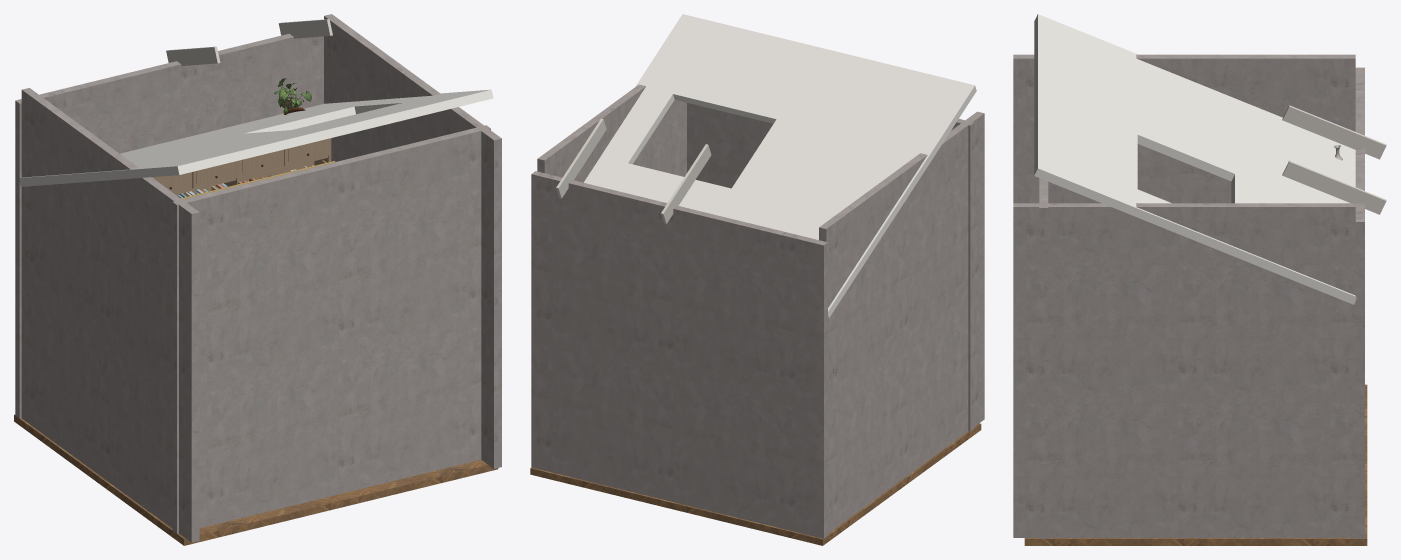
Rendered from attic.glb.
3 views of the same model, side by side, from view 1: azimuth 30°, elevation 25°; view 2: azimuth 150°, elevation 25°; view 3: azimuth 270°, elevation 25° (orthographic). The views are drawn at different scales.
Parts seen in each view (by area): view 1: Attic_shell, Attic_decor; view 2: Attic_shell; view 3: Attic_shell.
Boxes of the visible parts, <box> form: Attic_shell: <box>14,14,501,545</box>; Attic_decor: <box>28,78,311,254</box>; Attic_shell: <box>530,14,984,545</box>; Attic_shell: <box>1013,14,1386,545</box>.
Bounding box in the file's own units: 4.8 × 5.48 × 4.9.
49 materials, 32 textured.
